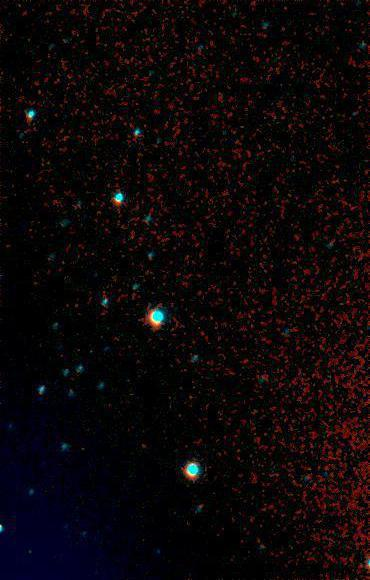star: (129, 432, 159, 462)
